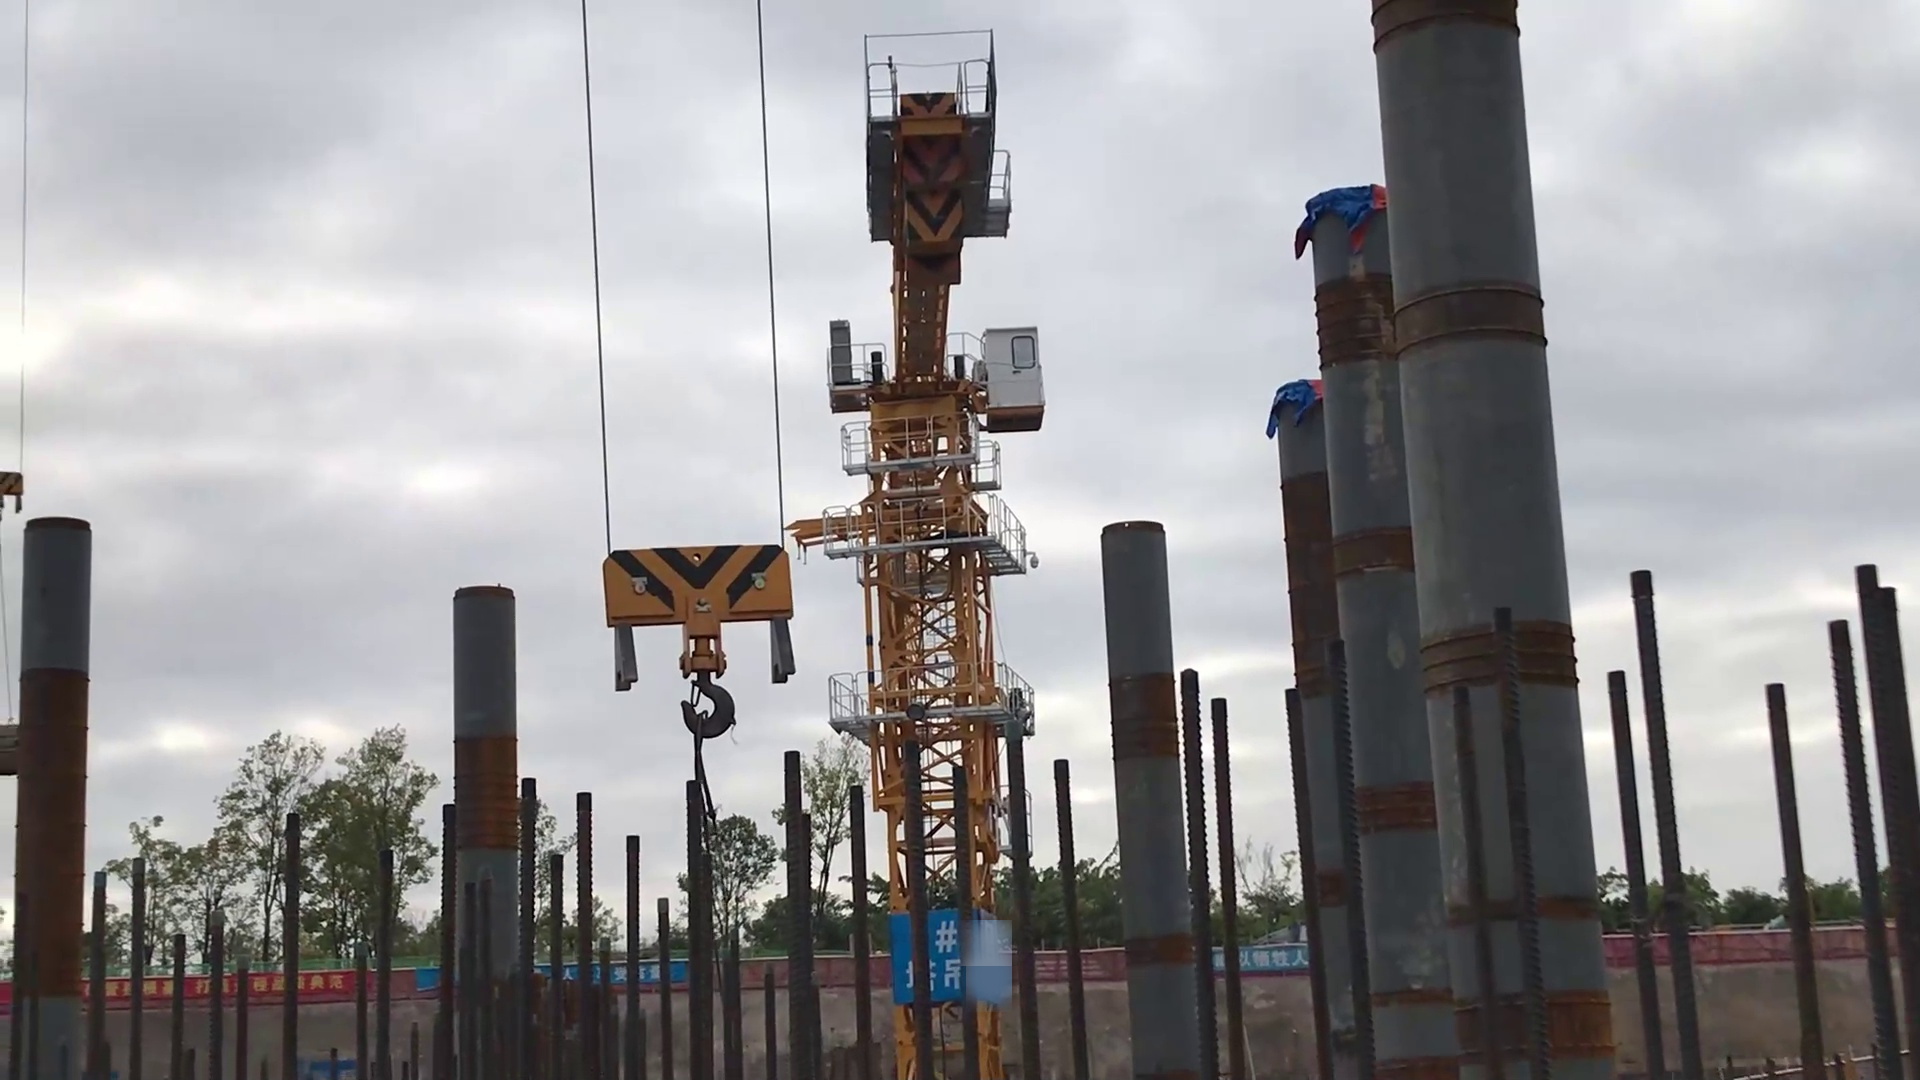hook: (597, 531, 803, 742)
